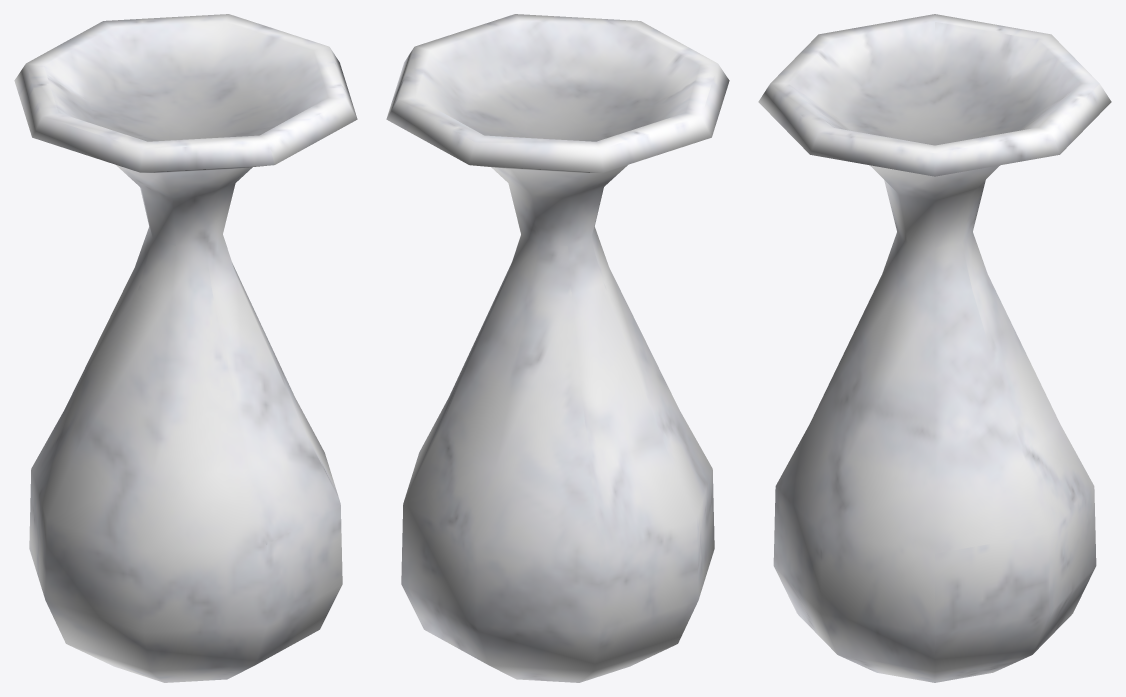
The model's file is TurretDynamic_Stand.fbx.
3 views of the same model, side by side, from view 1: azimuth 30°, elevation 25°; view 2: azimuth 150°, elevation 25°; view 3: azimuth 270°, elevation 25° (orthographic).
Parts seen in each view (by area): view 1: TurretDynamic_Stand; view 2: TurretDynamic_Stand; view 3: TurretDynamic_Stand.
Part boxes in pixels (x1,y1,x2,y2): TurretDynamic_Stand: (14,14,357,682); TurretDynamic_Stand: (386,14,729,682); TurretDynamic_Stand: (758,14,1111,682).
Bounding box in the file's own units: 37.68 × 67.51 × 37.68.
